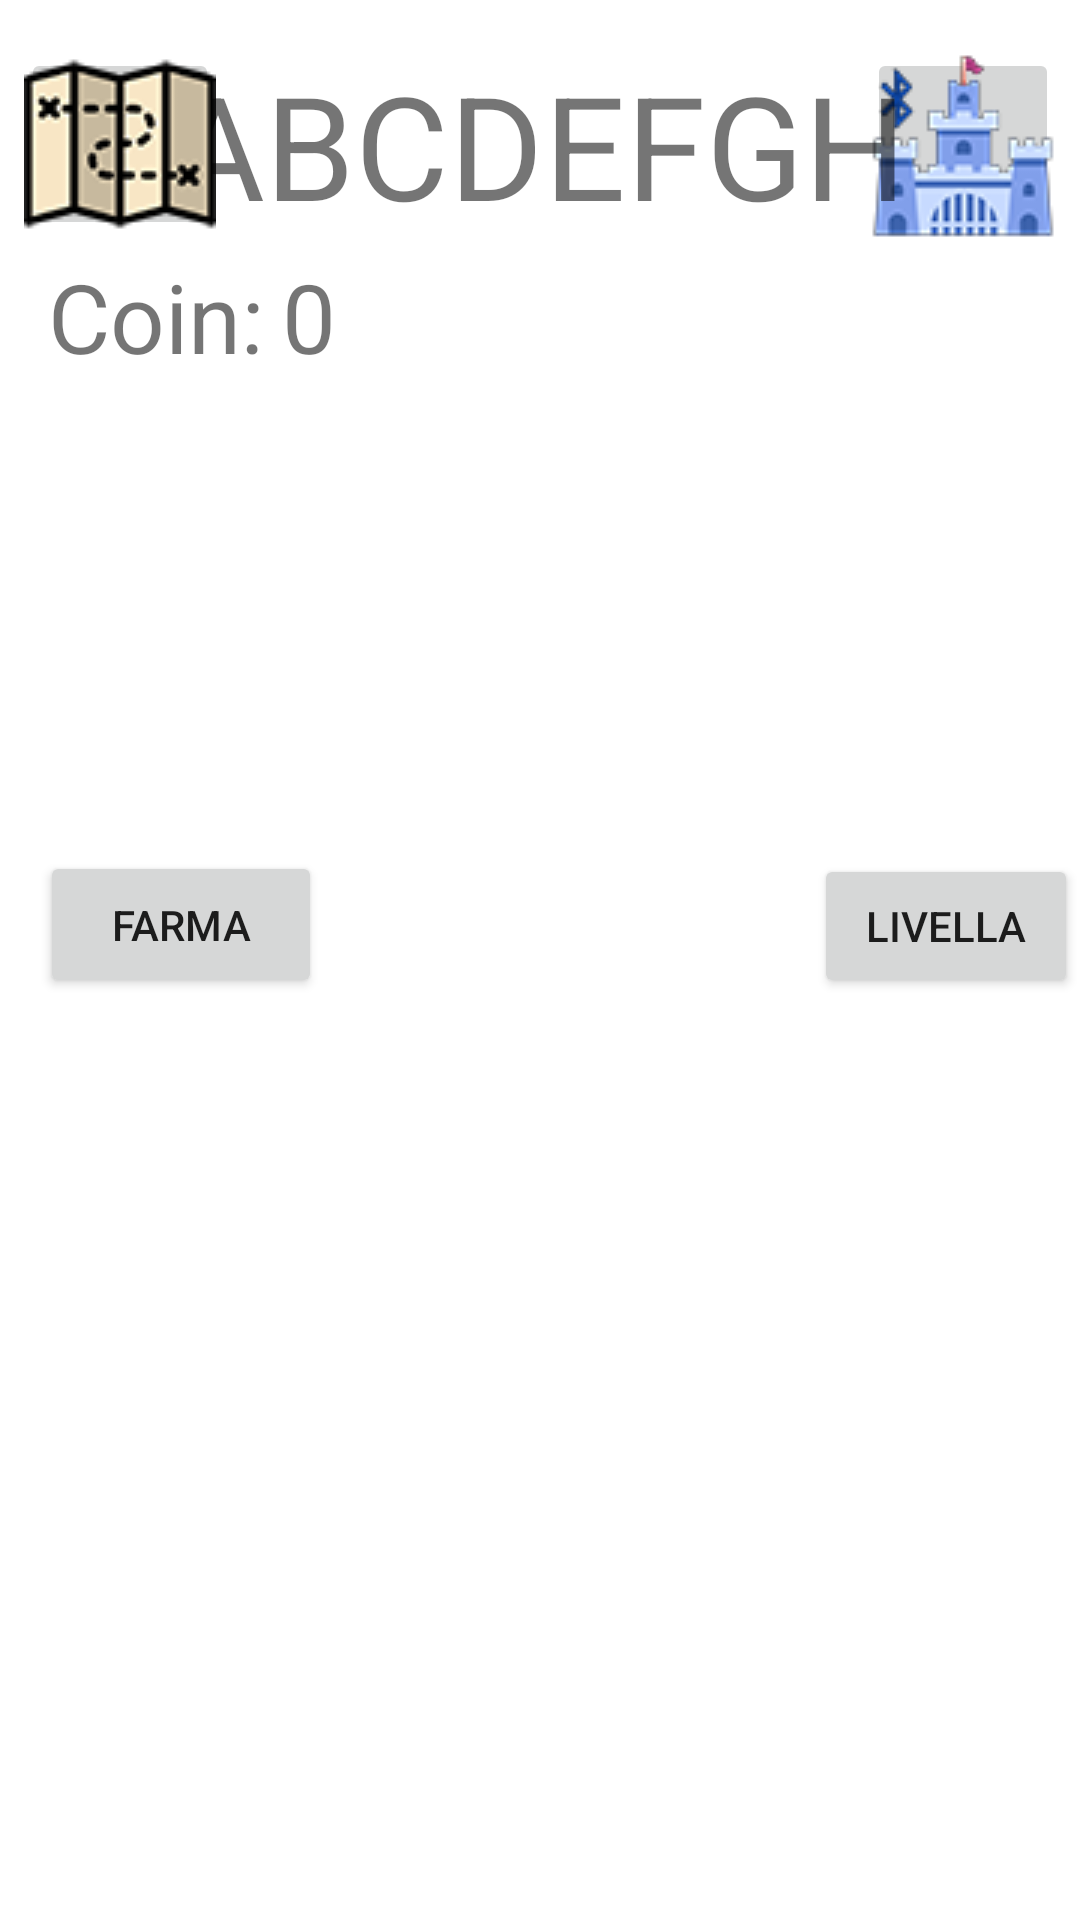

Icon bounding boxes for this 1080*1920 phone screenshot, format (x1,y1,x2,y2):
maps: (24,59,219,229)
